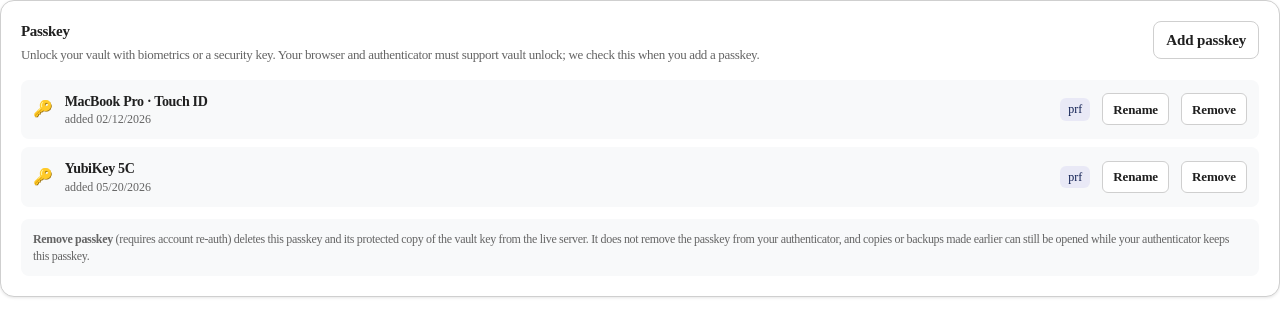
Test: P03-T20B Settings passkey list, rename, revoke and auto-lock (Task 20 20B) › 20B (VB-R1-5, CI-41031049276): revoke focus lands on the card heading after a slow post-revoke list refresh settles
Expected: the list with test id "settings-passkey-list" is shown, top-left (21, 80), bottom-right (1259, 207)
Click the button "Remove" in the row of "MacBook Pro · Touch ID". click: (1214, 109)
box: top-left (1181, 93), bottom-right (1247, 125)
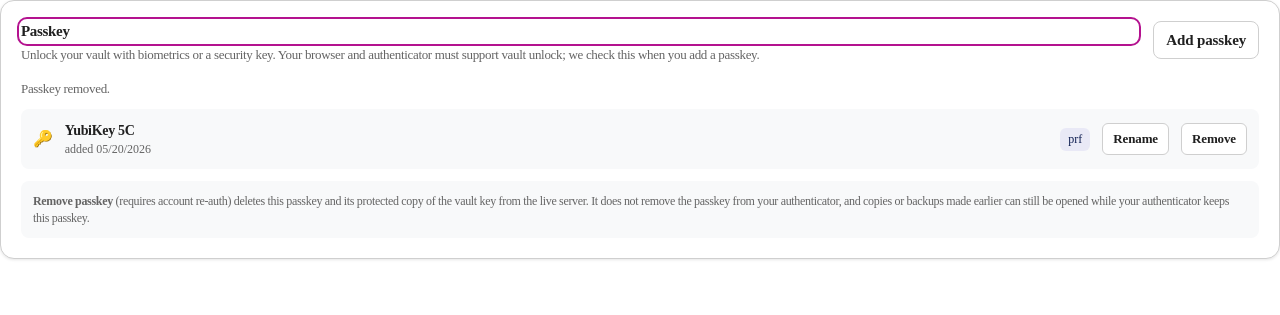
Result: the message with test id "settings-passkey-status" reads "Passkey removed." at top-left (21, 80), bottom-right (110, 96)
